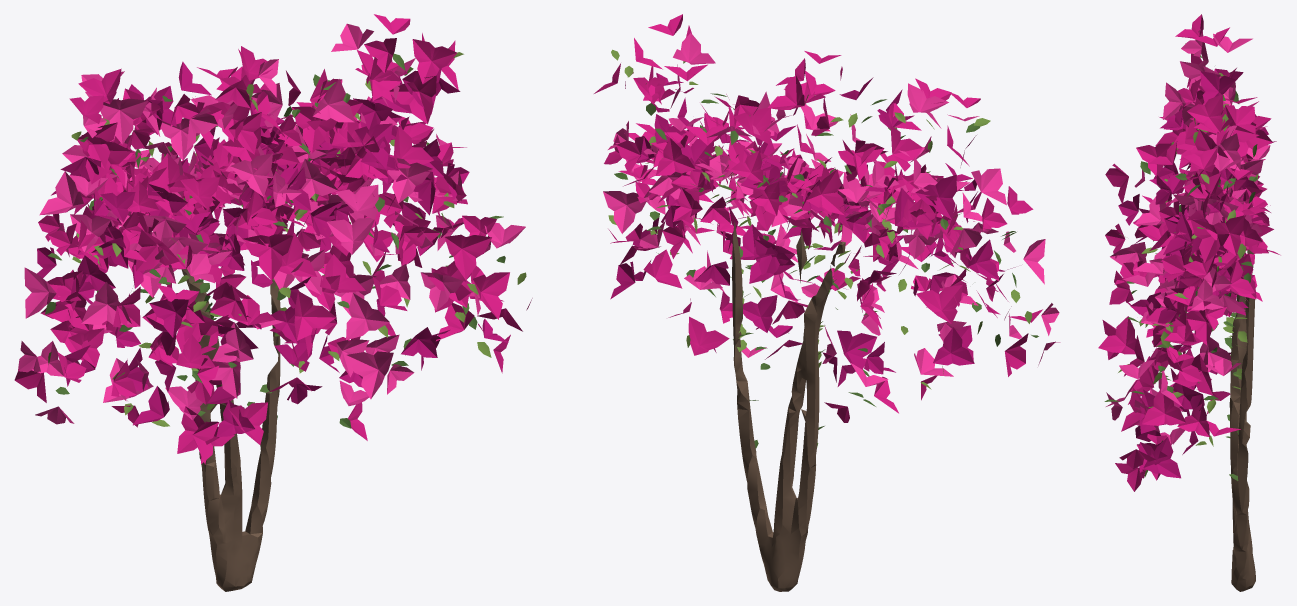
The model's file is bougainvillea-far.glb.
3 renders of one model, left to right at view 1: azimuth 30°, elevation 25°; view 2: azimuth 150°, elevation 25°; view 3: azimuth 270°, elevation 25°, orthographic. The views are drawn at different scales.
Parts seen in each view (by area): view 1: magenta2, pink1, rose3, bark0, leafdark5, leaf4; view 2: magenta2, pink1, rose3, bark0, leaf4, leafdark5; view 3: magenta2, pink1, rose3, bark0, leaf4, leafdark5.
Part boxes in pixels (<box>): magenta2: <box>14,14,532,464</box>; pink1: <box>18,23,525,424</box>; rose3: <box>37,60,508,436</box>; bark0: <box>181,268,280,591</box>; leafdark5: <box>45,53,505,446</box>; leaf4: <box>48,52,526,426</box>; magenta2: <box>594,14,1042,422</box>; pink1: <box>603,33,1060,386</box>; rose3: <box>610,72,1015,386</box>; bark0: <box>732,222,845,591</box>; leaf4: <box>608,49,1032,389</box>; leafdark5: <box>614,93,1038,448</box>; magenta2: <box>1098,14,1280,491</box>; pink1: <box>1106,29,1270,445</box>; rose3: <box>1118,68,1276,478</box>; bark0: <box>1229,249,1255,591</box>; leaf4: <box>1118,43,1257,477</box>; leafdark5: <box>1104,54,1257,480</box>.
Bounding box in the file's own units: 3.67 × 3.91 × 1.3.
